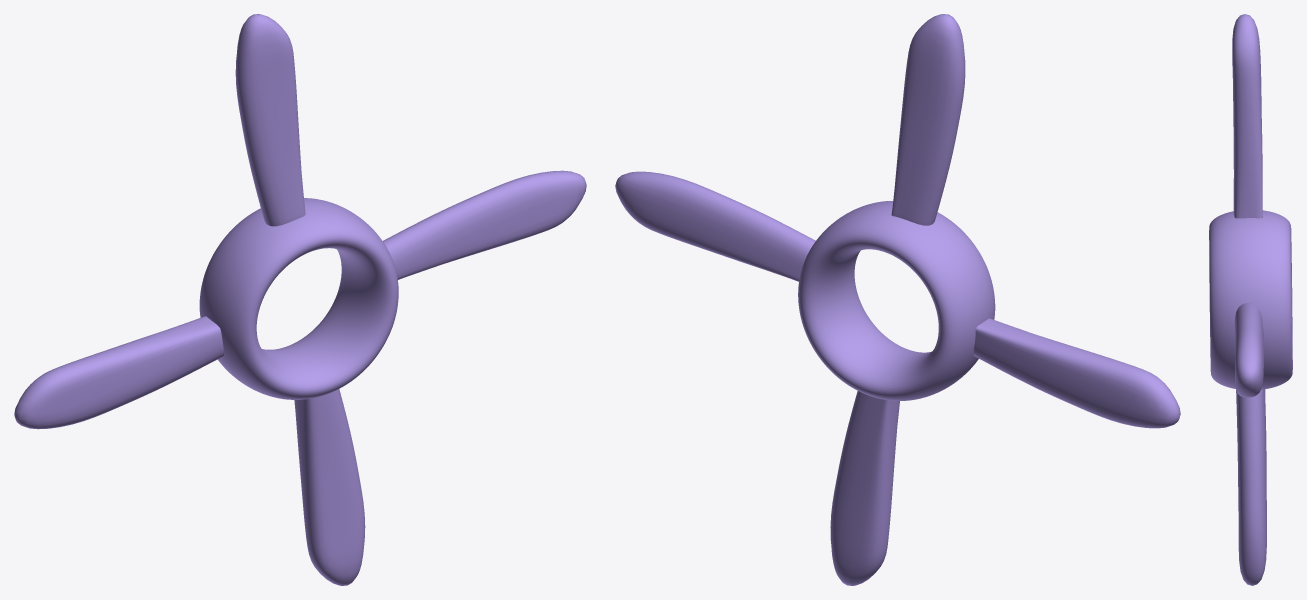
The model's file is Propeller.fbx.
3 views of the same model, side by side, from view 1: azimuth 30°, elevation 25°; view 2: azimuth 150°, elevation 25°; view 3: azimuth 270°, elevation 25° (orthographic). The views are drawn at different scales.
Visible parts, largest first — view 1: blades; view 2: blades; view 3: blades.
Part boxes in pixels (x1,y1,x2,y2): blades: (14, 14, 586, 585); blades: (615, 14, 1180, 585); blades: (1209, 14, 1292, 585).
Size of the model in its own units: 0.5967 by 0.5966 by 0.0853.
